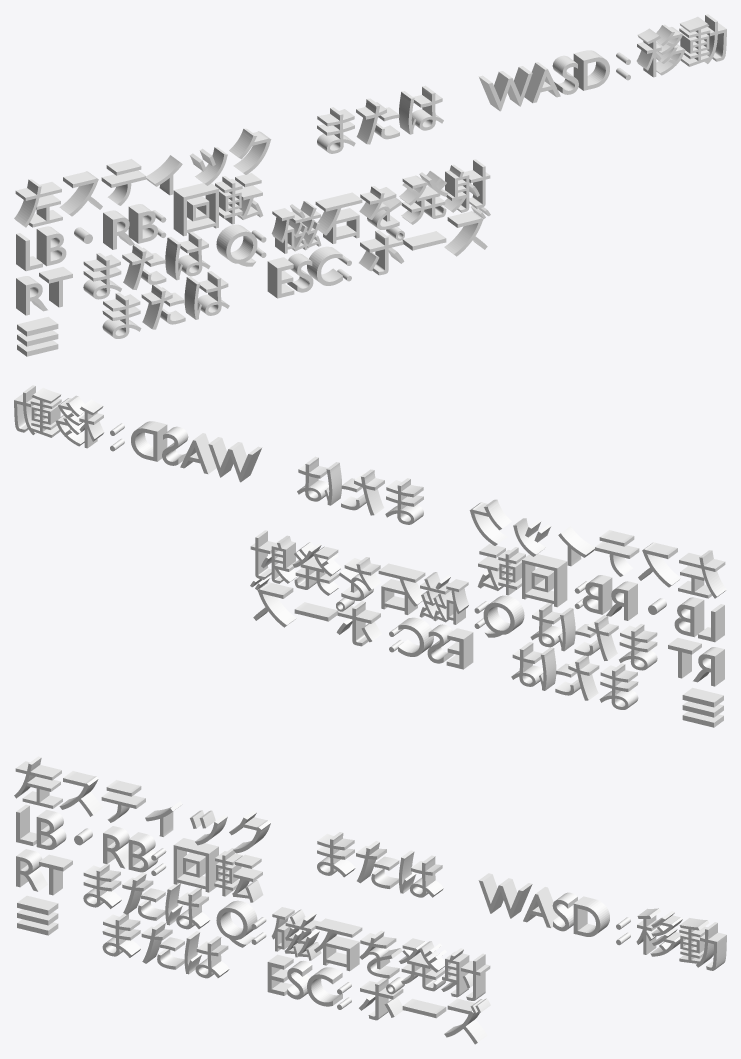
File: Operation.obj
3 views of the same model, one above another, from view 1: azimuth 30°, elevation 25°; view 2: azimuth 150°, elevation 25°; view 3: azimuth 330°, elevation 25° (orthographic).
Parts seen in each view (by area): view 1: テキスト; view 2: テキスト; view 3: テキスト.
Part boxes in pixels (box(x1,y1,x2,y2)): テキスト: box(14, 14, 726, 356); テキスト: box(14, 385, 726, 727); テキスト: box(14, 756, 726, 1044).
Size of the model in its own units: 16.6 by 3.89 by 0.4042.
1 material, 1 textured.
